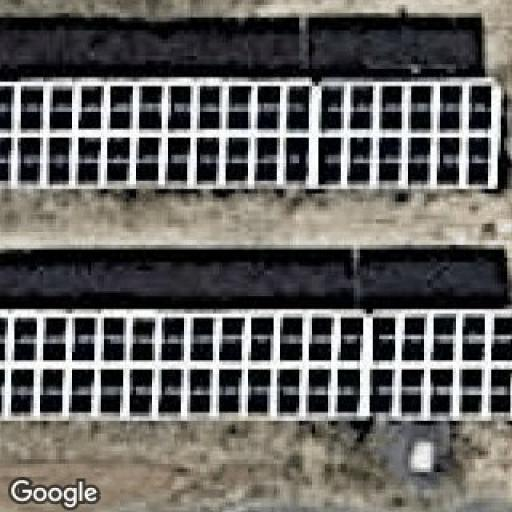solar-panel: (0, 307, 512, 421), (0, 80, 501, 194)
